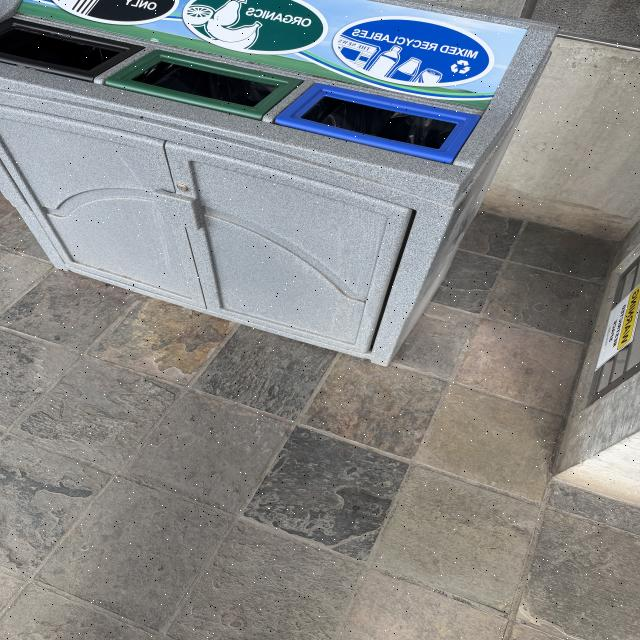Dustbin: (0, 0, 561, 369)
